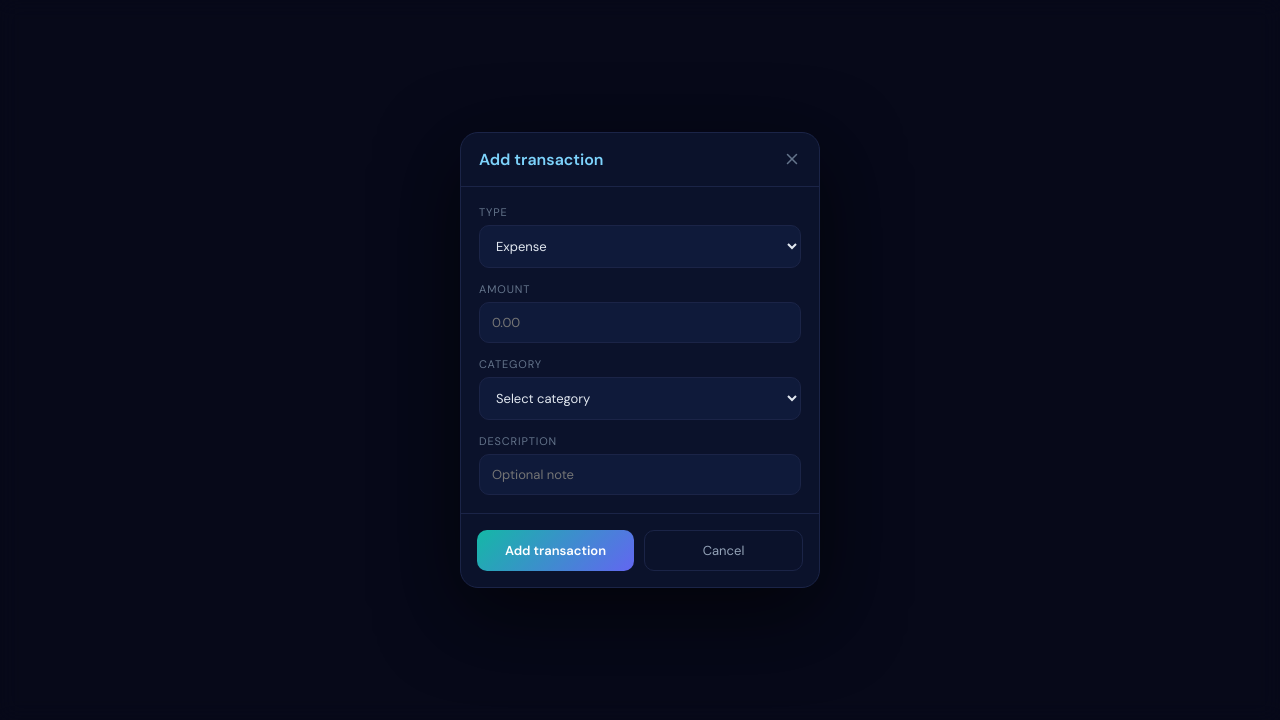
Test: AddTransactionForm › shows validation errors on empty submit
Click the button "Add transaction": (556, 550) [477,530,634,571]
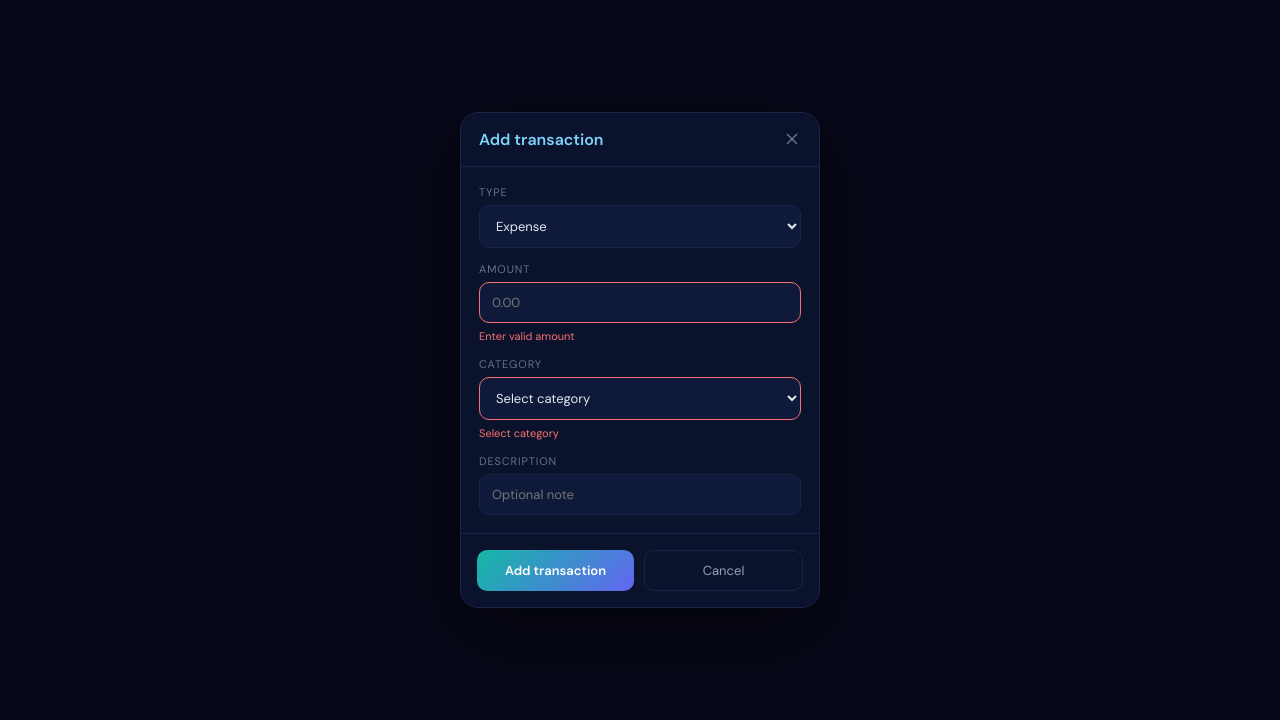
Expected: the 2nd dropdown is shown, [479,377,801,420]
Result: the text "Enter valid amount" is shown at [479,329,575,343]
